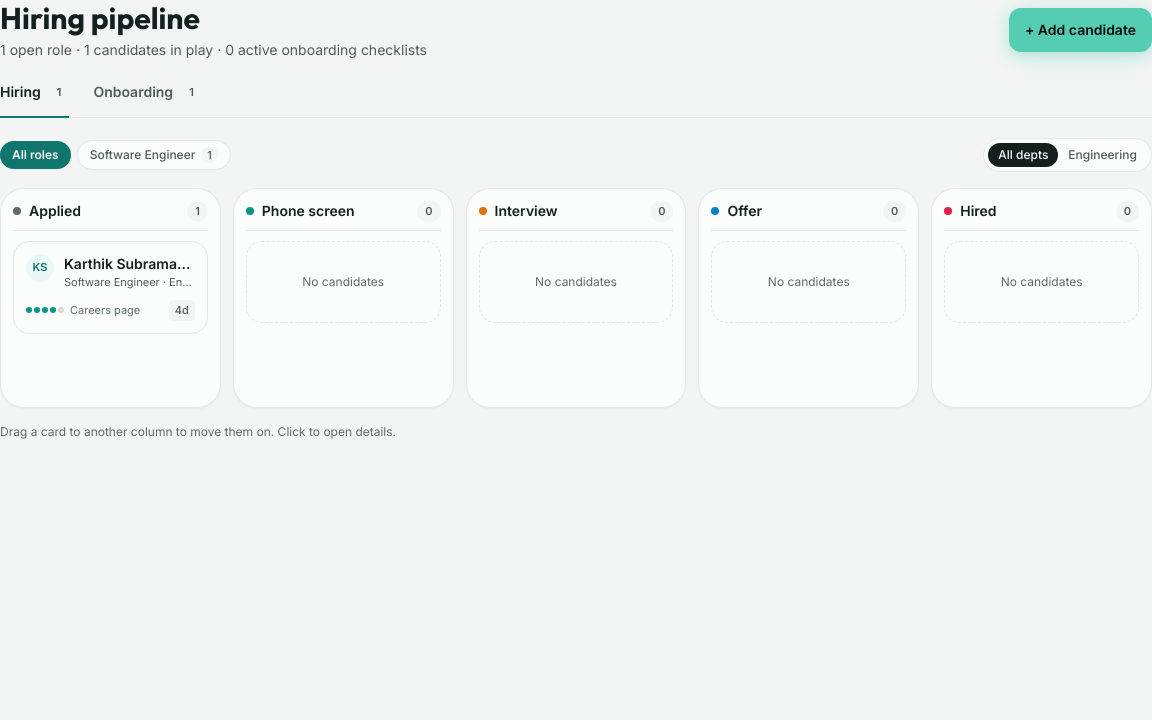
Test: OnboardingPage Hiring & Onboarding Workspace › switches to Onboarding tab, opens role drawer, and displays CRM employee checklists
This screenshot has width=1152, height=720.
Click the tab with test id "tab-onboarding".
click(148, 99)  # box [93, 80, 202, 118]
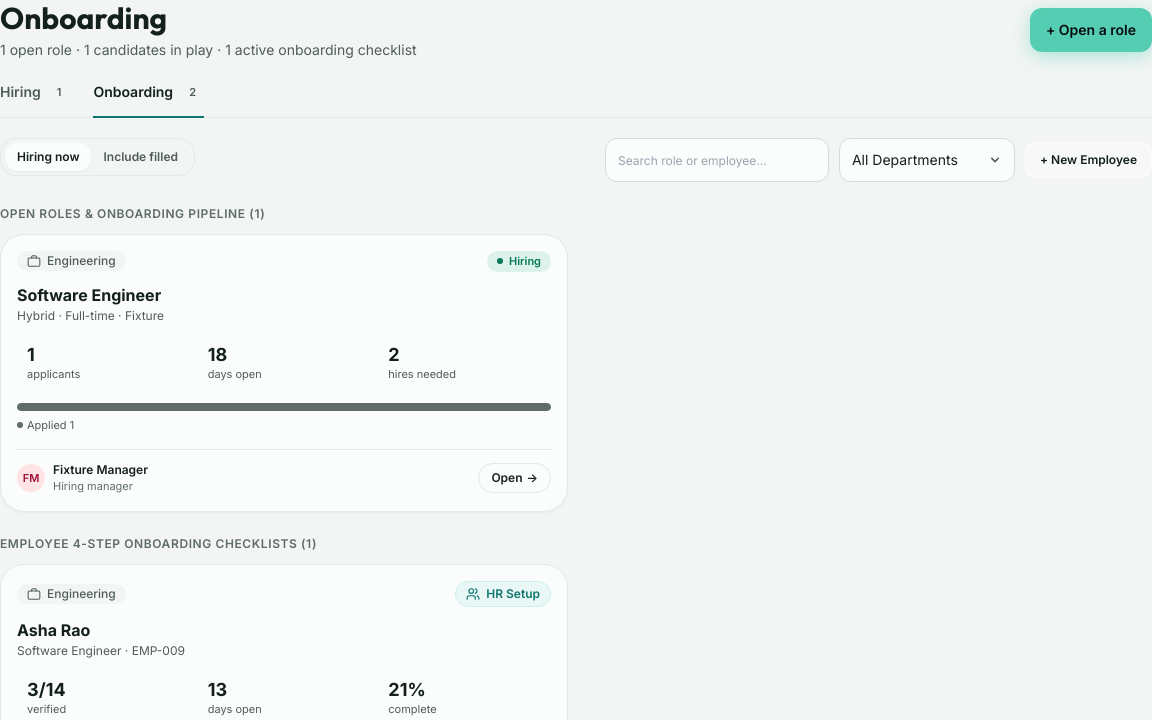
Now the element with test id "onboarding-workspace-tab" is shown
Now the element with test id "role-opening-card-role-swe" is shown, box [0, 234, 568, 512]
Now the element with test id "employee-onboarding-card-emp-1" is shown, box [0, 564, 568, 719]
# Open role drawer
Click the button with test id "open-role-btn-role-swe".
click(515, 478)  # box [478, 463, 551, 493]
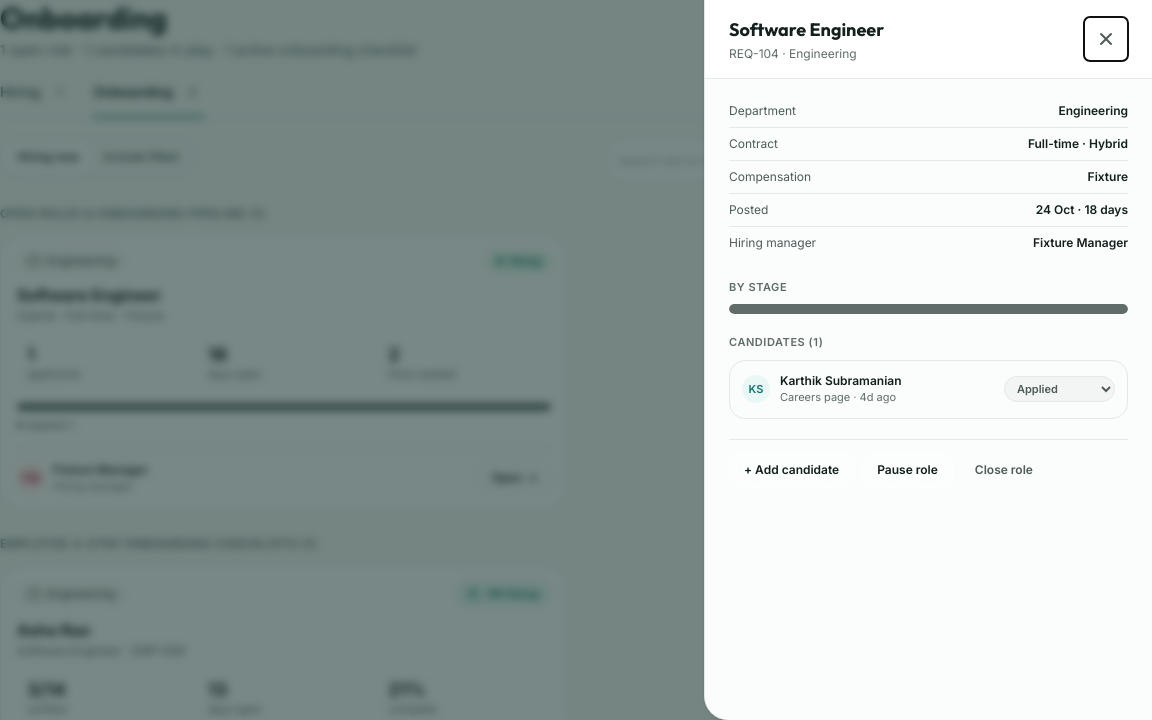
Now the element with test id "role-opening-drawer" is shown, box [729, 95, 1128, 488]
Now the text "REQ-104 · Engineering" is shown, box [729, 46, 857, 61]
